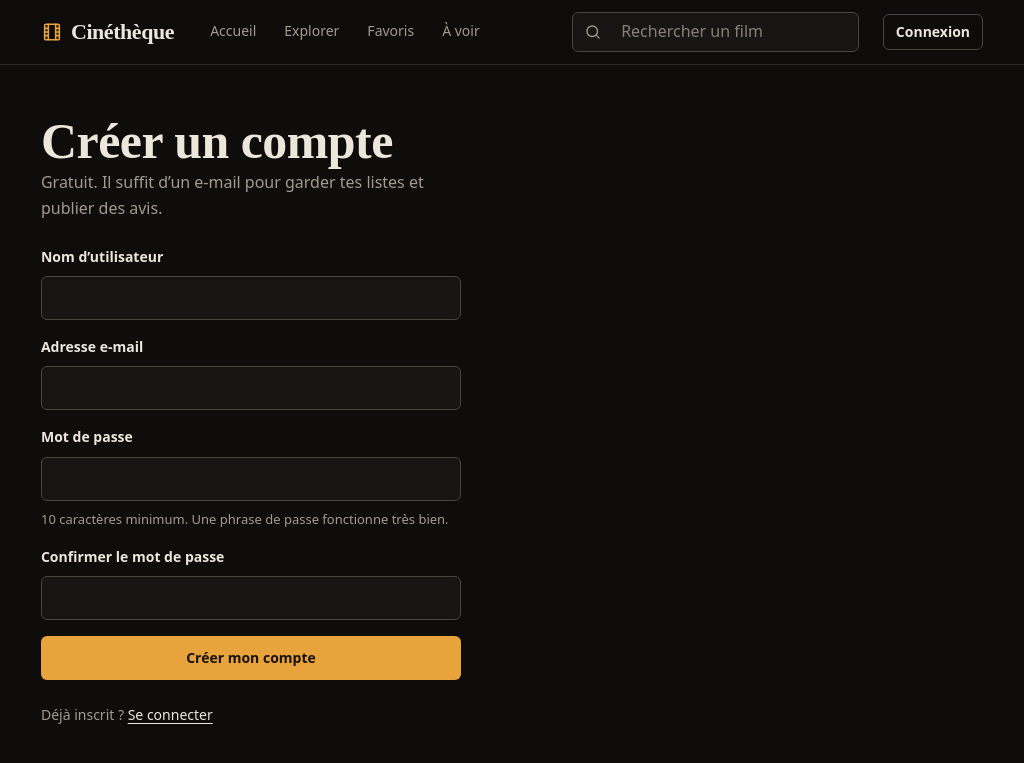
Test: application › valide le formulaire d’inscription côté client
Click the button "Créer mon compte" at (251, 658), box [41,636,461,680]
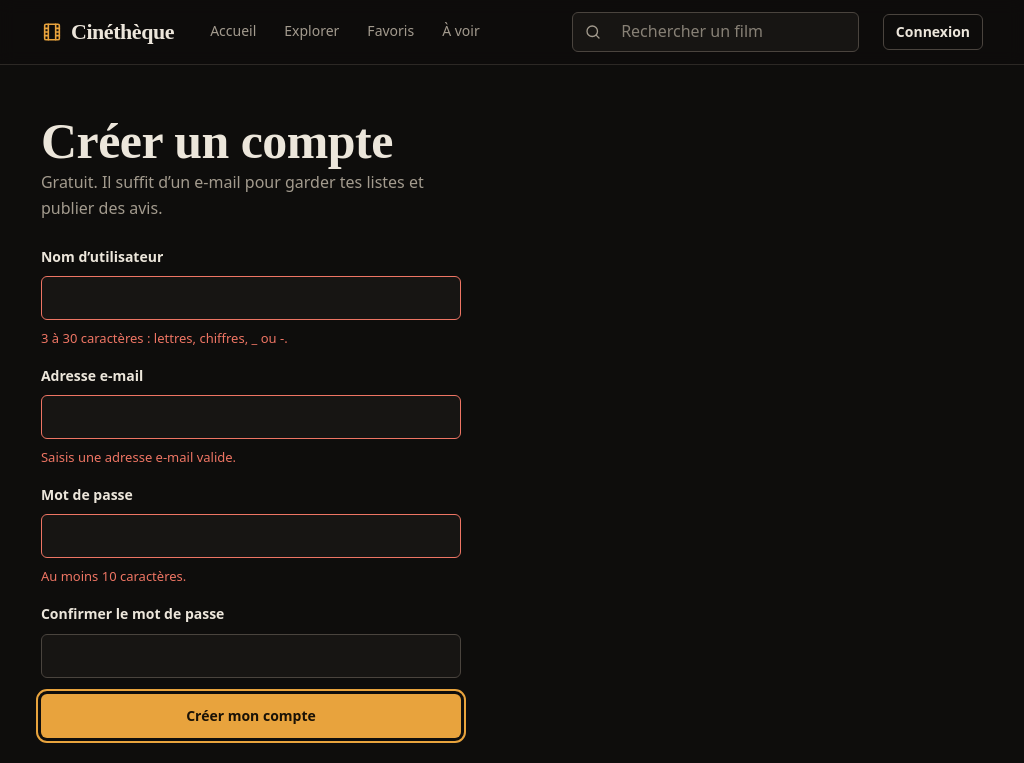
Expected: the text "Au moins 10 caractères." is shown, [41,567,186,585]
